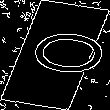O_E: (5, 28, 105, 82)
